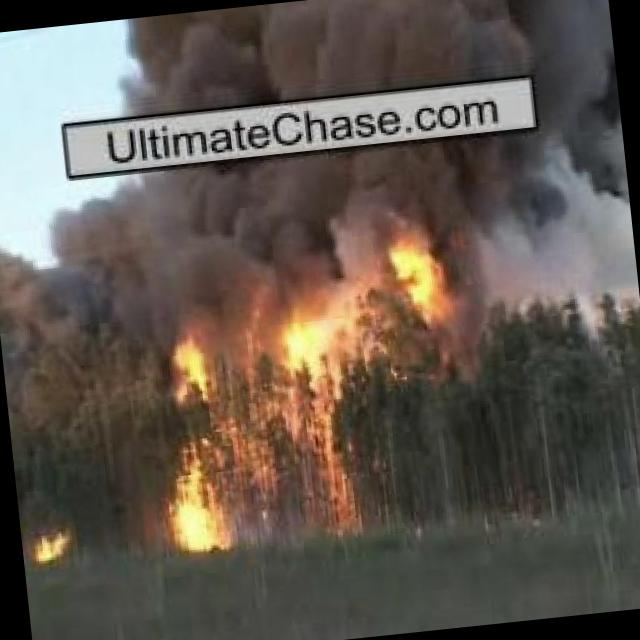Fire: (142, 312, 354, 544), (370, 172, 470, 362), (20, 516, 80, 568)
